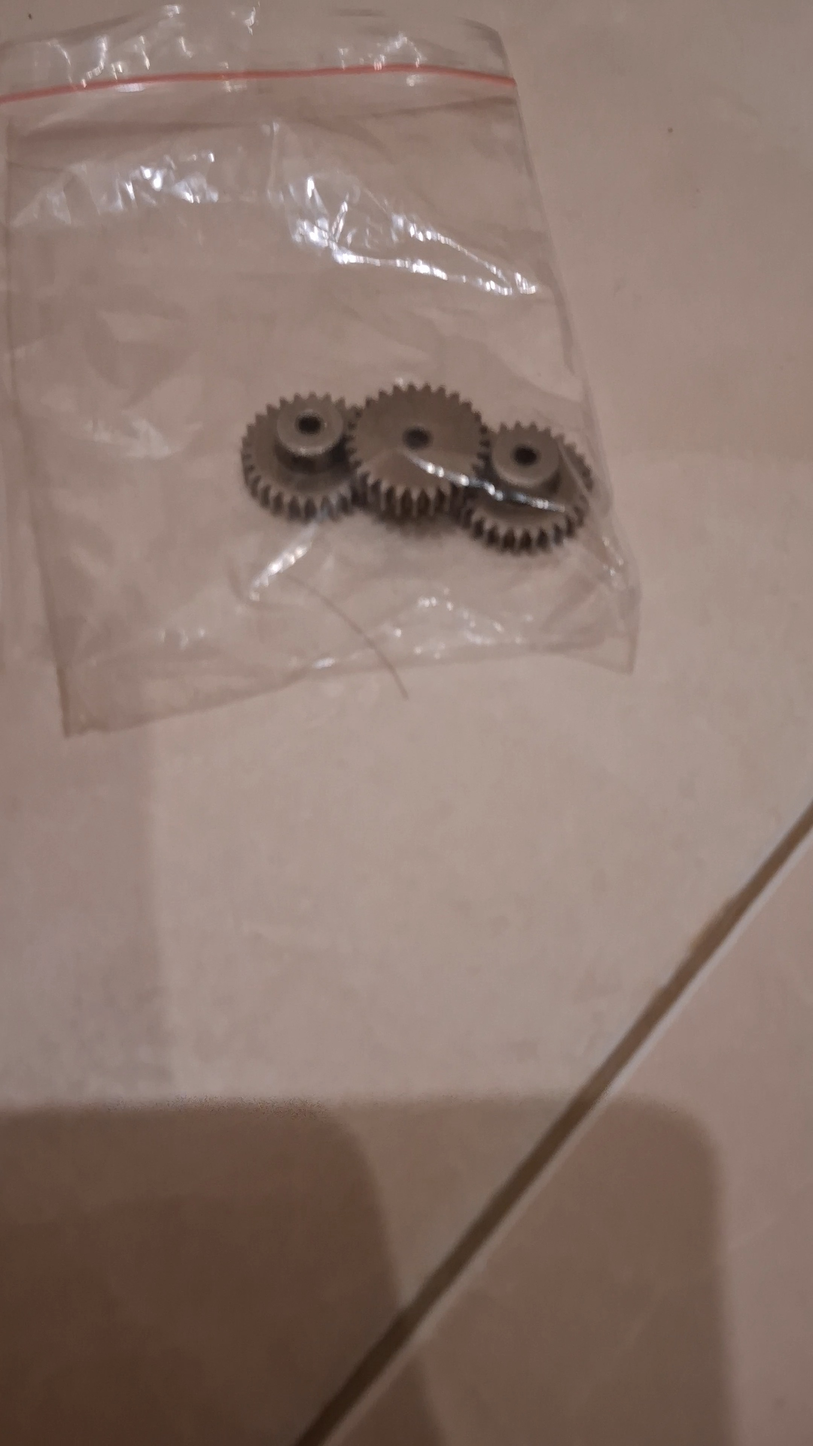spur gear: (348, 385, 487, 518), (459, 426, 592, 551), (241, 394, 353, 520)
